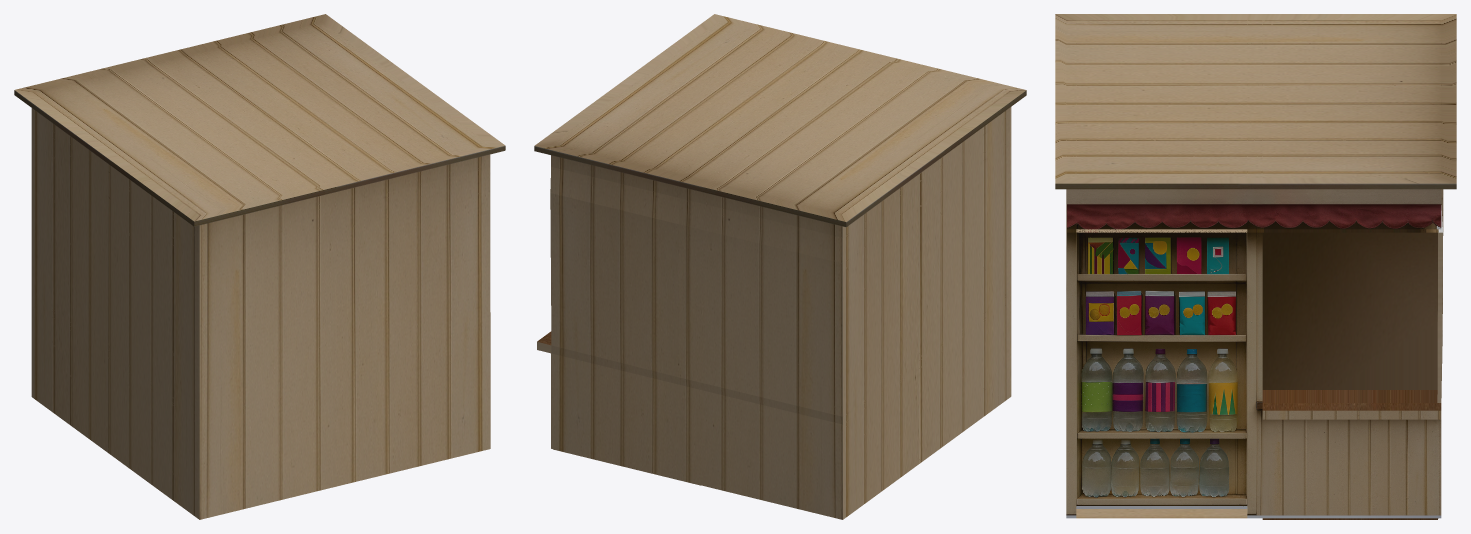
The model's file is Snack.fbx.
3 views of the same model, side by side, from view 1: azimuth 30°, elevation 25°; view 2: azimuth 150°, elevation 25°; view 3: azimuth 270°, elevation 25° (orthographic). The views are drawn at different scales.
Visible parts, largest first — view 1: Cube; view 2: Cube; view 3: Cube.
Boxes of the visible parts, box(x1,y1,x2,y2) form: Cube: box(14, 14, 505, 519); Cube: box(534, 14, 1026, 519); Cube: box(1055, 14, 1456, 519).
Bounding box in the file's own units: 396 × 367 × 390.
